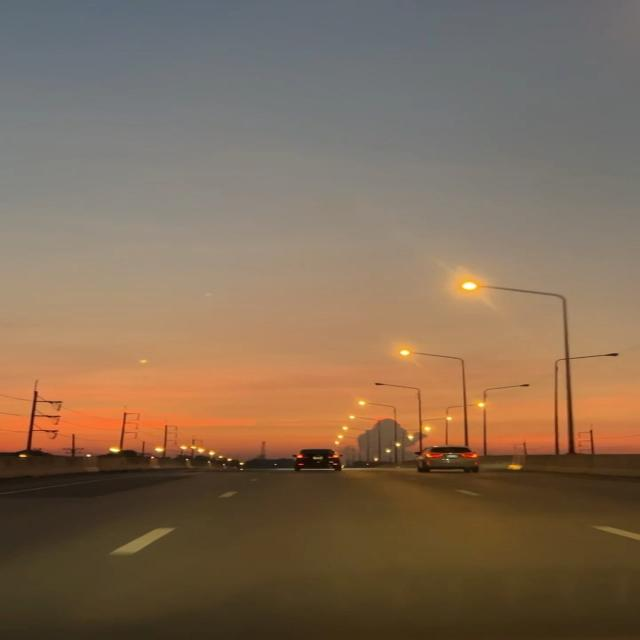Poth-hole: (105, 460, 572, 630)
